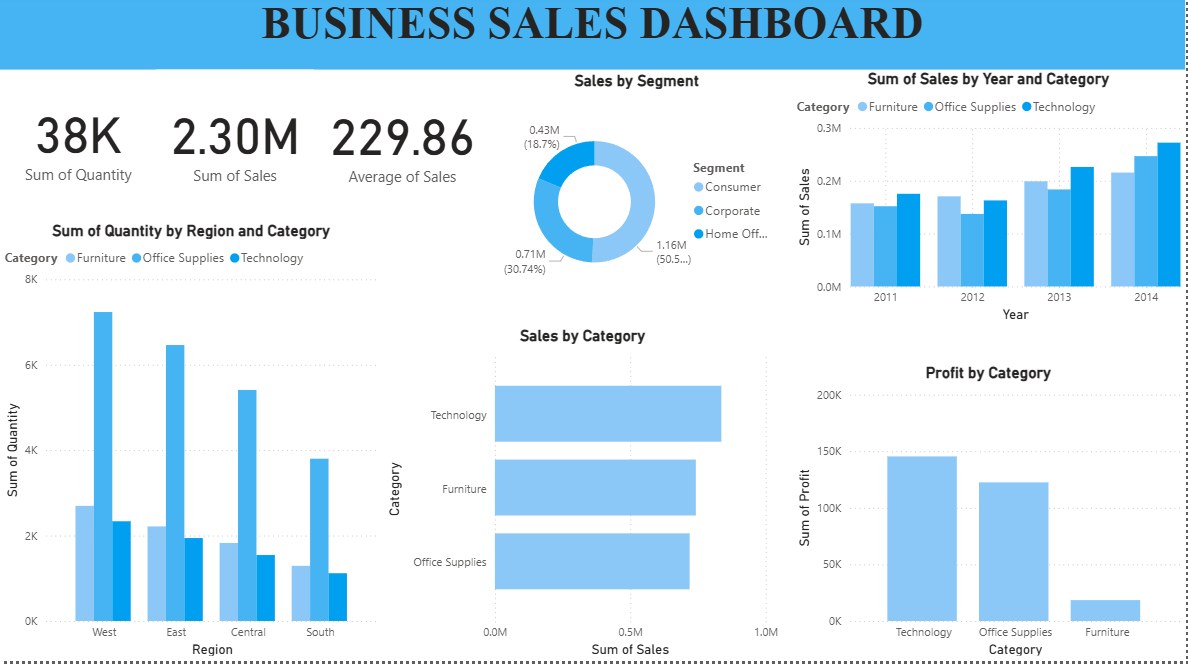

The dashboard page shown, as its layout file describes it:
{"tool":"powerbi","page":{"name":"Page 1","canvas":[1280,720],"ordinal":0},"visuals":[{"type":"card","fields":{"Values":["Sum(Orders.Quantity)"]},"box":[0,82.6,168.4,149],"z":0},{"type":"clusteredColumnChart","fields":{"Category":["Orders.Region"],"Y":["Sum(Orders.Quantity)"],"Series":["Orders.Category"]},"box":[0,246.1,412.9,474.4],"z":1000},{"type":"clusteredBarChart","title":"Sales by Category","fields":{"Category":["Orders.Category"],"Y":["Sum(Orders.Sales)"]},"box":[412.9,359.5,432.3,361.1],"z":2000},{"type":"clusteredColumnChart","fields":{"Category":["Orders.Order Date.Variation.Date Hierarchy.Year","Orders.Order Date.Variation.Date Hierarchy.Quarter","Orders.Order Date.Variation.Date Hierarchy.Month","Orders.Order Date.Variation.Date Hierarchy.Day"],"Y":["Sum(Orders.Sales)"],"Series":["Orders.Category"]},"box":[855,82.6,424.2,276.9],"z":3000},{"type":"donutChart","title":"Sales by Segment","fields":{"Y":["Sum(Orders.Sales)"],"Category":["Orders.Segment"]},"box":[529.5,84.2,315.7,262.3],"z":4000},{"type":"textbox","box":[0,0,1279.2,82.6],"z":5000},{"type":"card","fields":{"Values":["Sum(Orders.Sales)"]},"box":[168.4,82.6,170,150.6],"z":6000},{"type":"clusteredColumnChart","title":"Profit by Category","fields":{"Category":["Orders.Category"],"Y":["Sum(Orders.Profit)"]},"box":[855,399.9,424.2,320.6],"z":7000},{"type":"card","fields":{"Values":["Avg(Orders.Sales)"]},"box":[338.4,84.2,191.1,149],"z":8000}]}

Visuals, with their boxes in screenshot pixels (x1, y1, x2, y2), scaled from the page's 1280x720 canvas onto the 1188x665 screenshot:
card - Sum(Orders.Quantity): region(0, 76, 156, 214)
clusteredColumnChart - Orders.Region x Sum(Orders.Quantity): region(0, 227, 383, 664)
"Sales by Category" clusteredBarChart: region(383, 332, 784, 664)
clusteredColumnChart - Orders.Order Date.Variation.Date Hierarchy.Year x Orders.Order Date.Variation.Date Hierarchy.Quarter: region(794, 76, 1187, 332)
"Sales by Segment" donutChart: region(491, 78, 784, 320)
textbox: region(0, 0, 1187, 76)
card - Sum(Orders.Sales): region(156, 76, 314, 215)
"Profit by Category" clusteredColumnChart: region(794, 369, 1187, 664)
card - Avg(Orders.Sales): region(314, 78, 491, 215)
